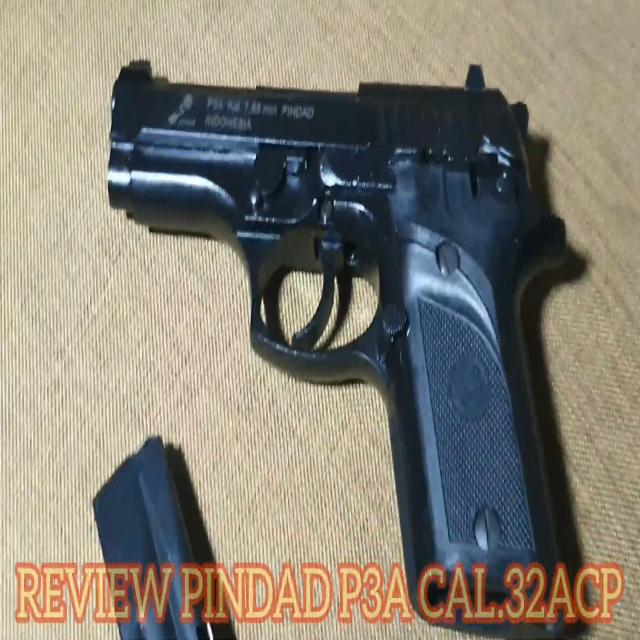handgun: (104, 48, 587, 567)
